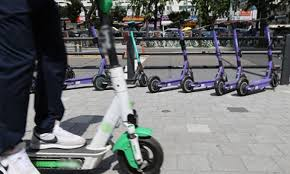kick_body: (249, 79, 271, 89), (69, 76, 92, 83), (195, 80, 214, 87)
kick_neck: (211, 32, 226, 73), (178, 29, 191, 69), (131, 32, 143, 69), (264, 29, 274, 68), (233, 30, 241, 72)
kick_wheel: (117, 132, 163, 174), (92, 75, 106, 89), (148, 77, 161, 92), (236, 79, 247, 96), (181, 76, 193, 91), (215, 79, 224, 95), (269, 74, 279, 87), (139, 75, 149, 85)
